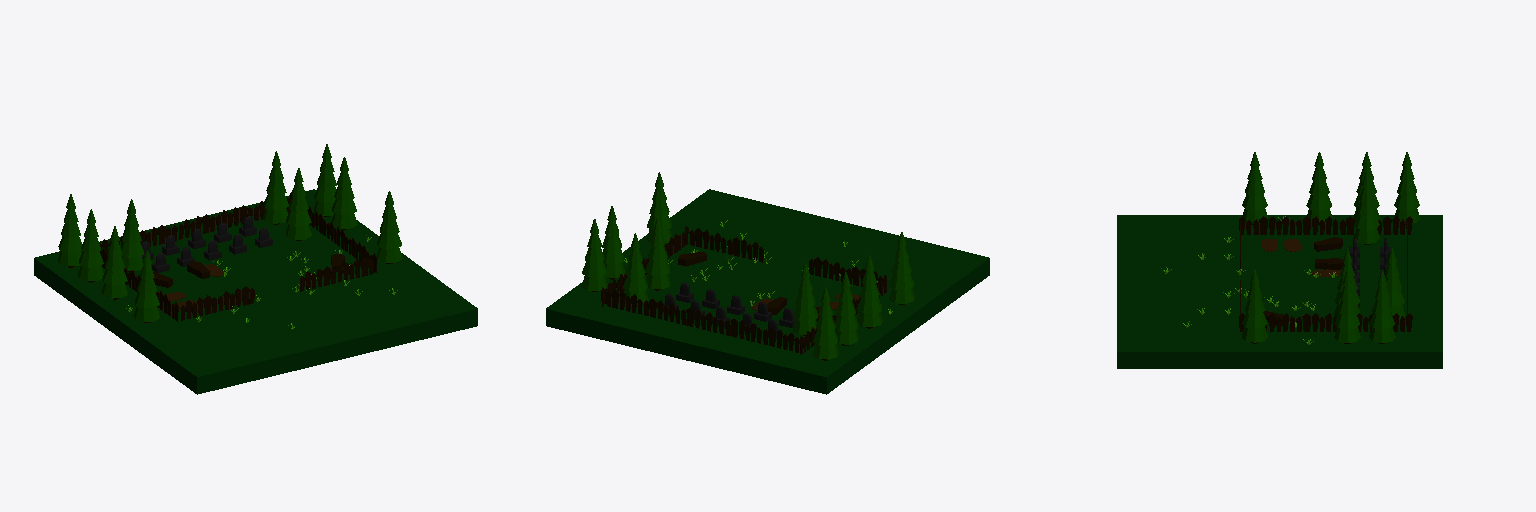
File: Cemetery_1256.obj
The picture shows the model from 3 angles: view 1: azimuth 30°, elevation 25°; view 2: azimuth 150°, elevation 25°; view 3: azimuth 270°, elevation 25°; orthographic projection.
Visible parts, largest first — view 1: Box116; view 2: Box116; view 3: Box116.
Boxes of the visible parts, box(x1,y1,x2,y2) form: Box116: box(34, 144, 477, 394); Box116: box(546, 172, 989, 394); Box116: box(1117, 152, 1442, 368).
Size of the model in its own units: 138 by 41.93 by 139.